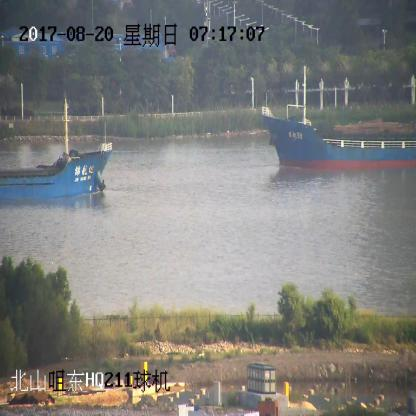Bulk Carrier: (264, 68, 416, 172), (0, 113, 110, 205)
